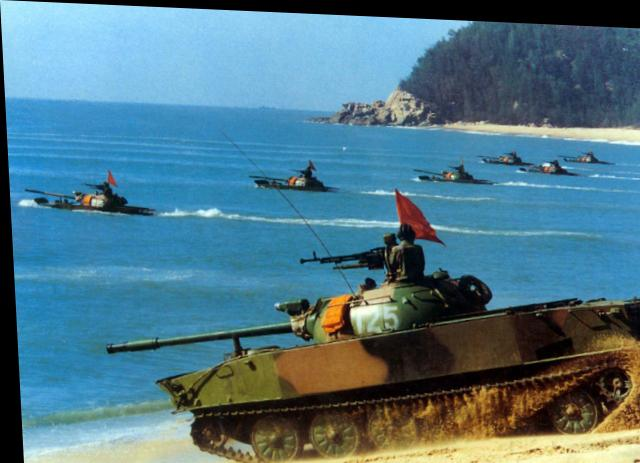other: (383, 211, 420, 279)
tank: (99, 256, 640, 462), (21, 182, 151, 213), (245, 167, 337, 188), (410, 160, 492, 179), (475, 146, 532, 160), (521, 156, 585, 168)
